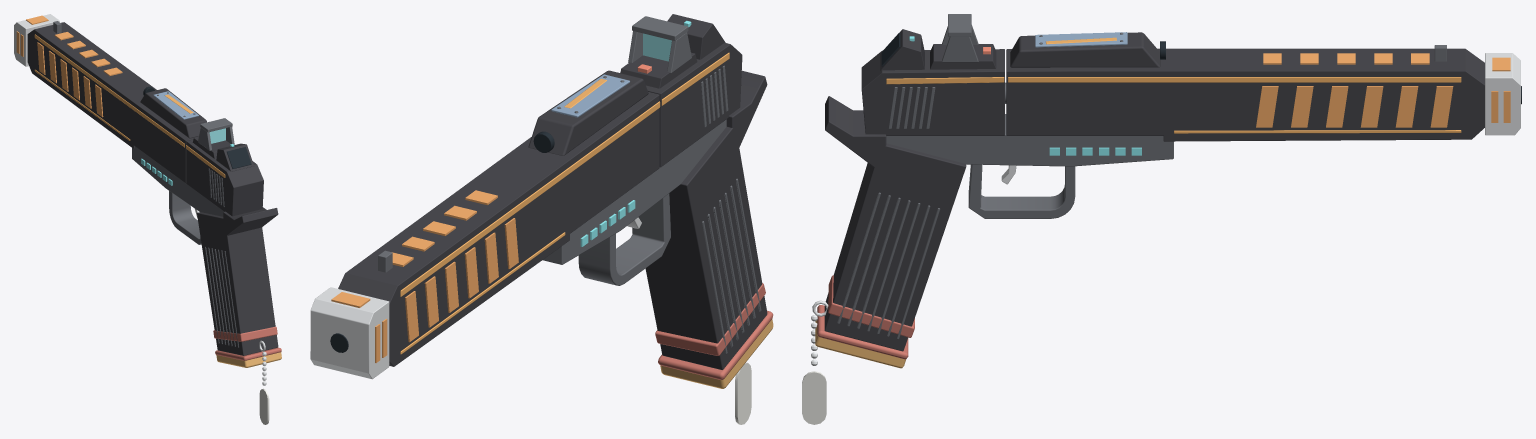
File: smart_pistol_t2.glb
The picture shows the model from 3 angles, left to right: view 1: azimuth 30°, elevation 25°; view 2: azimuth 150°, elevation 25°; view 3: azimuth 270°, elevation 25°; orthographic projection. The views are drawn at different scales.
Parts seen in each view (by area): view 1: Frame, Shroud, Slide, Vents, TrackerScreen, MagBase, TrackerGlass, Details, CharmTag; view 2: Shroud, Frame, Slide, Vents, TrackerScreen, MagBase, TrackerGlass, Details, CharmTag, HoloGlass; view 3: Shroud, Frame, Slide, Vents, TrackerScreen, MagBase, CharmTag, TrackerGlass, Details.
Boxes of the visible parts, x1,y1,x2,y2 form: Frame: [132, 146, 278, 355]; Shroud: [14, 14, 198, 183]; Slide: [186, 118, 263, 216]; Vents: [16, 15, 122, 117]; TrackerScreen: [140, 88, 206, 138]; MagBase: [215, 347, 281, 367]; TrackerGlass: [143, 86, 198, 119]; Details: [213, 326, 277, 341]; CharmTag: [259, 351, 269, 424]; Shroud: [310, 92, 660, 379]; Frame: [542, 70, 767, 369]; Slide: [620, 14, 742, 167]; Vents: [331, 190, 518, 362]; TrackerScreen: [528, 70, 648, 155]; MagBase: [658, 310, 773, 388]; TrackerGlass: [533, 74, 630, 152]; Details: [655, 283, 765, 355]; CharmTag: [735, 362, 751, 424]; HoloGlass: [643, 33, 671, 61]; Shroud: [1005, 45, 1521, 141]; Frame: [812, 96, 1173, 351]; Slide: [861, 14, 1004, 135]; Vents: [1256, 53, 1510, 127]; TrackerScreen: [1010, 32, 1160, 67]; MagBase: [815, 305, 908, 368]; CharmTag: [802, 315, 826, 424]; TrackerGlass: [1035, 32, 1165, 59]; Details: [828, 275, 914, 337].
Bounding box in the file's own units: 0.0392 × 0.2587 × 0.4204.
